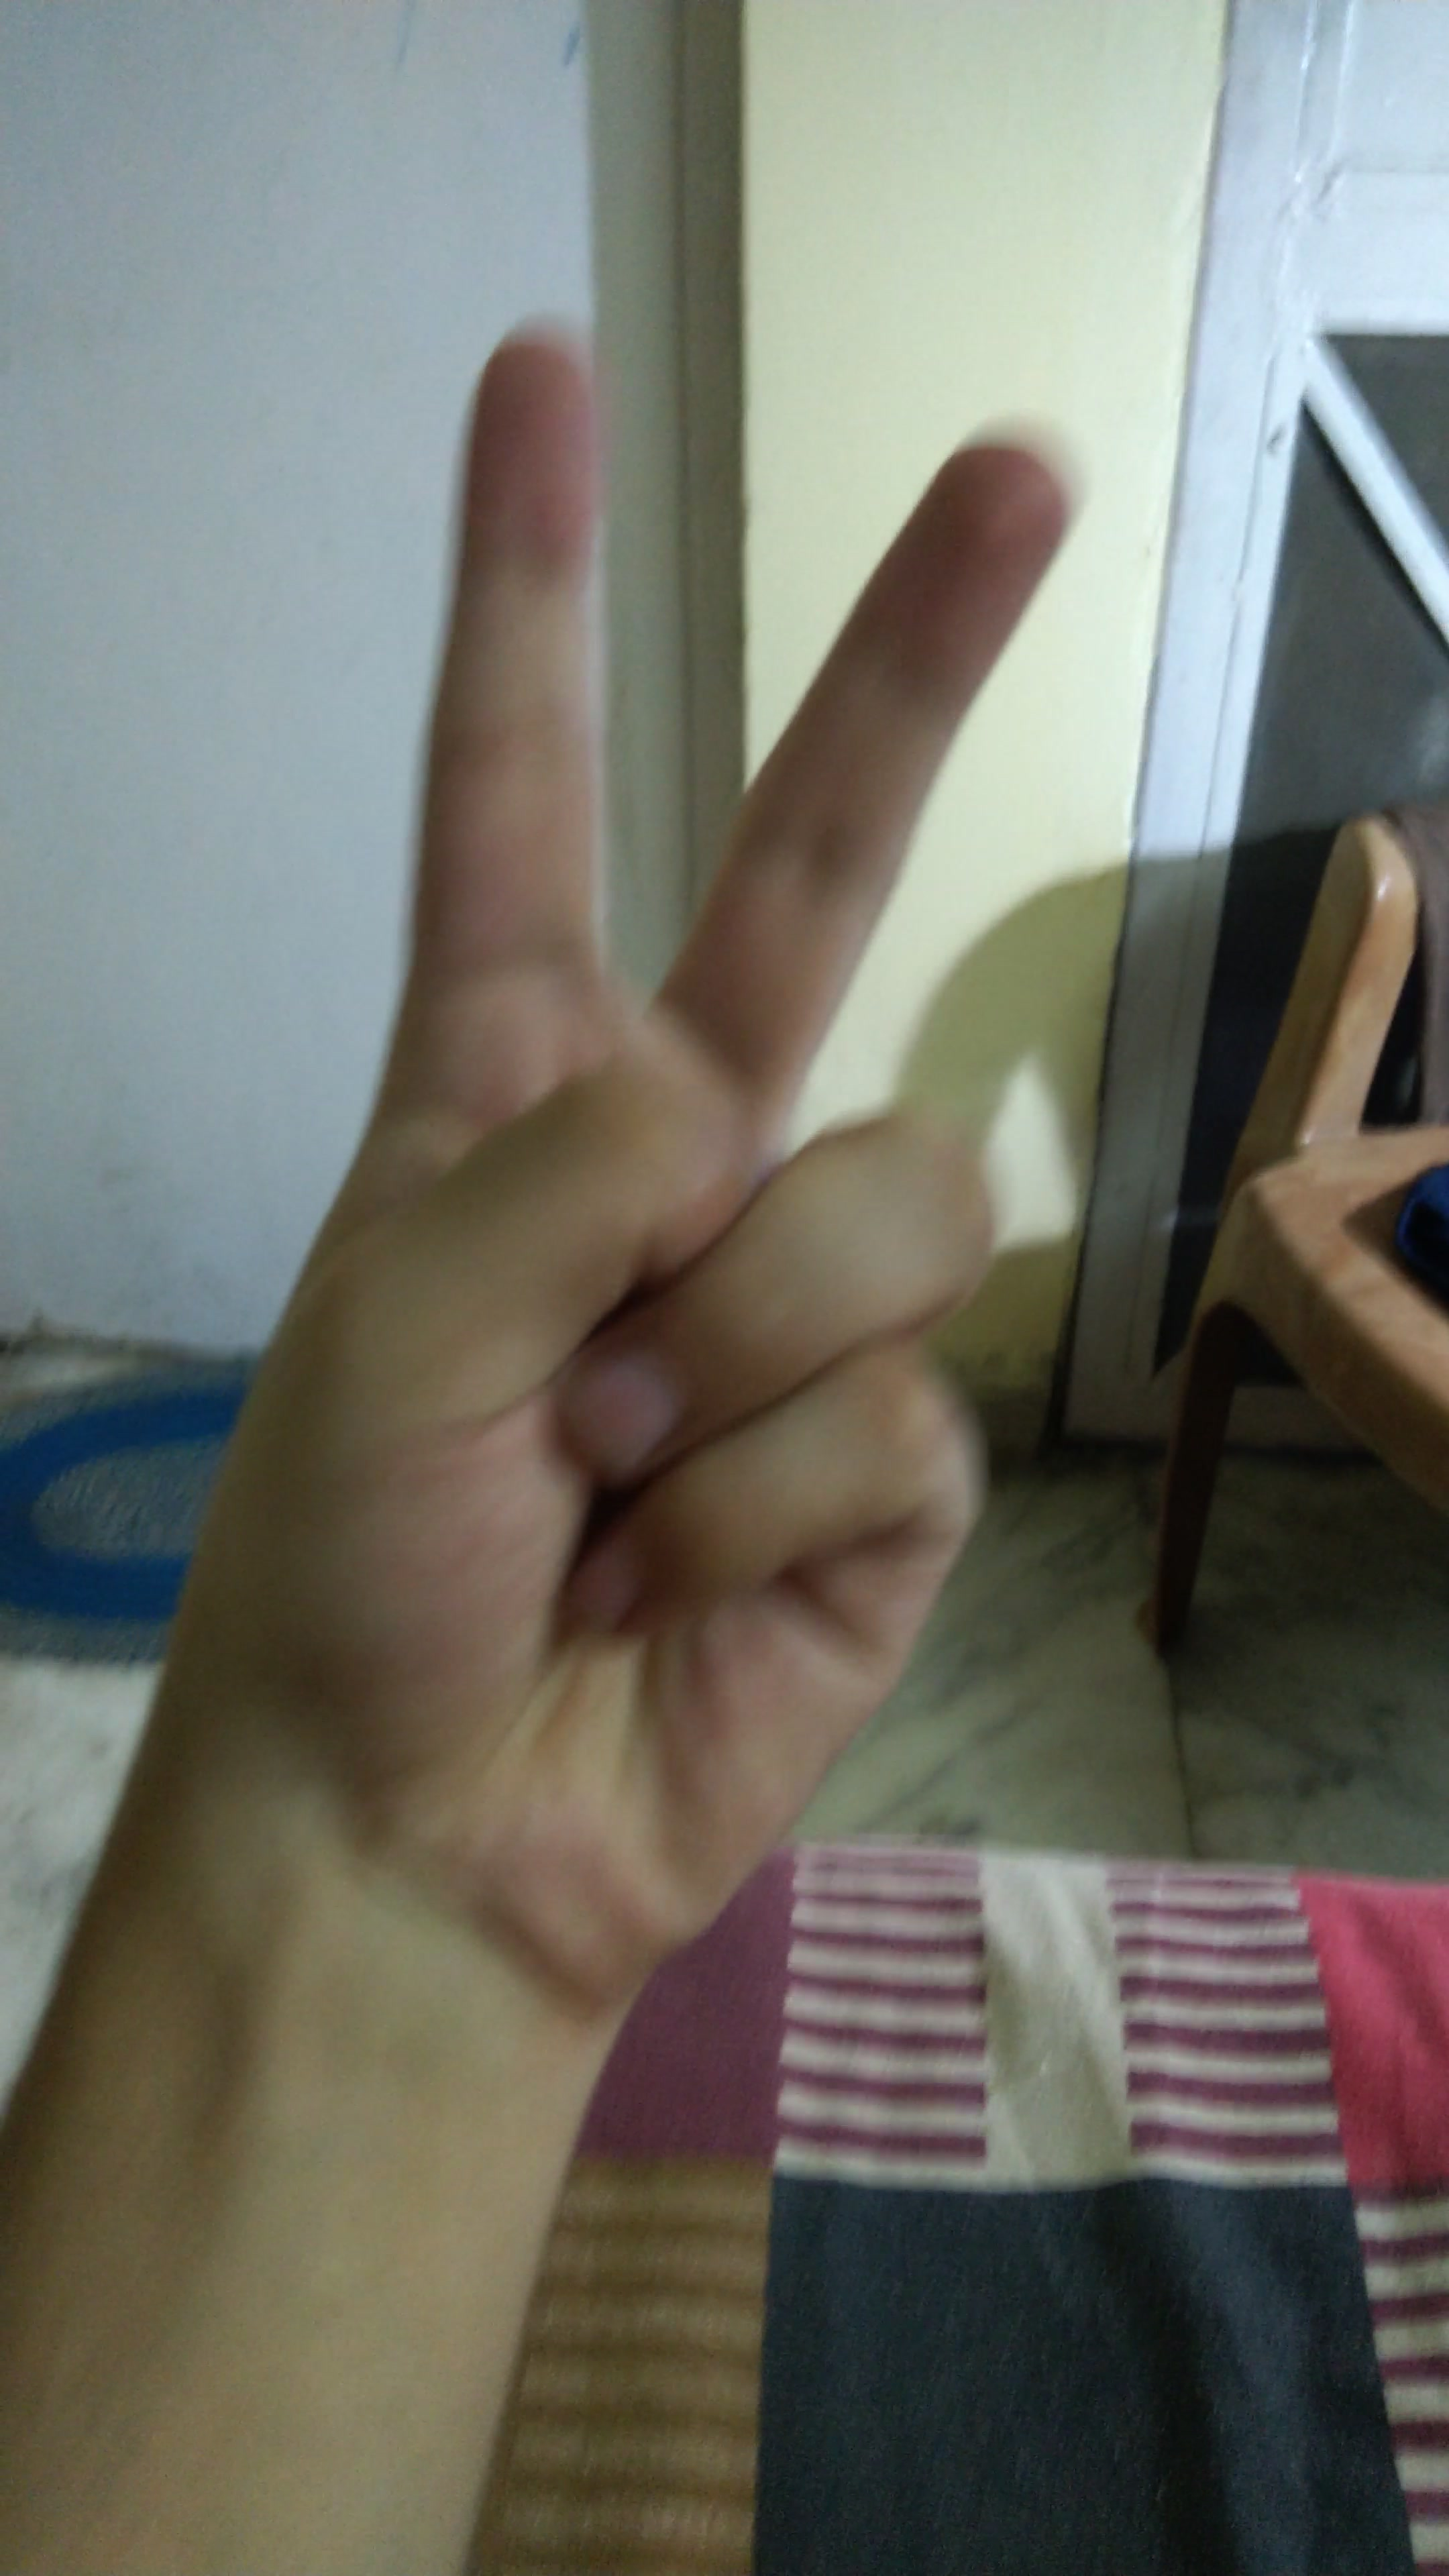hand: (94, 281, 1139, 2074)
